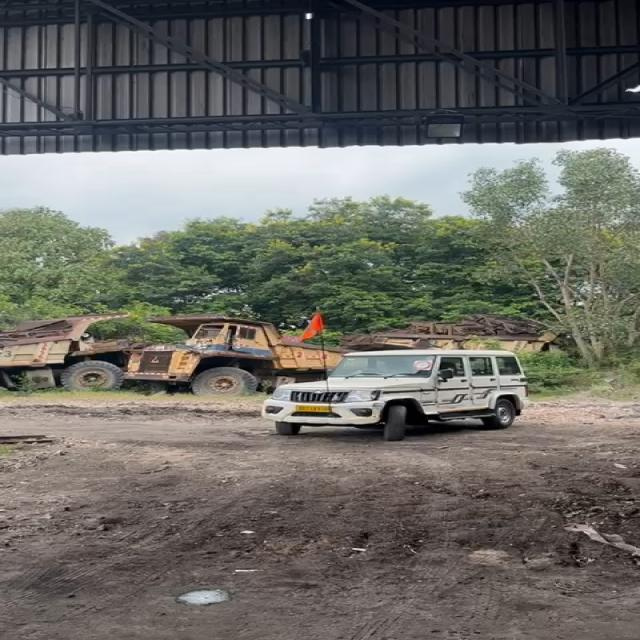light_vehicle: (271, 348, 528, 440)
